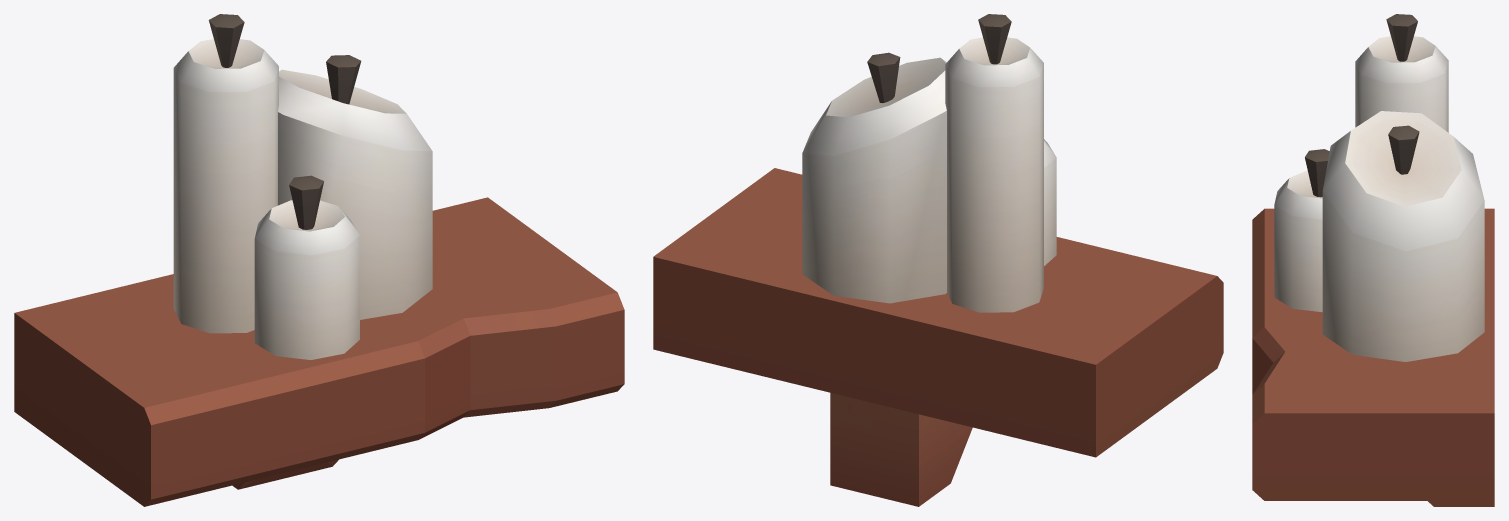
The model's file is shelf-small-candles-gltf.glb.
The picture shows the model from 3 angles, left to right: view 1: azimuth 30°, elevation 25°; view 2: azimuth 150°, elevation 25°; view 3: azimuth 270°, elevation 25°; orthographic projection. The views are drawn at different scales.
Parts seen in each view (by area): view 1: shelf_small_candles; view 2: shelf_small_candles; view 3: shelf_small_candles.
Boxes of the visible parts, x1,y1,x2,y2 form: shelf_small_candles: (14,14,624,506); shelf_small_candles: (653,14,1223,506); shelf_small_candles: (1252,14,1494,506).
Size of the model in its own units: 1 by 0.9941 by 0.5001.
1 material, 1 textured.
